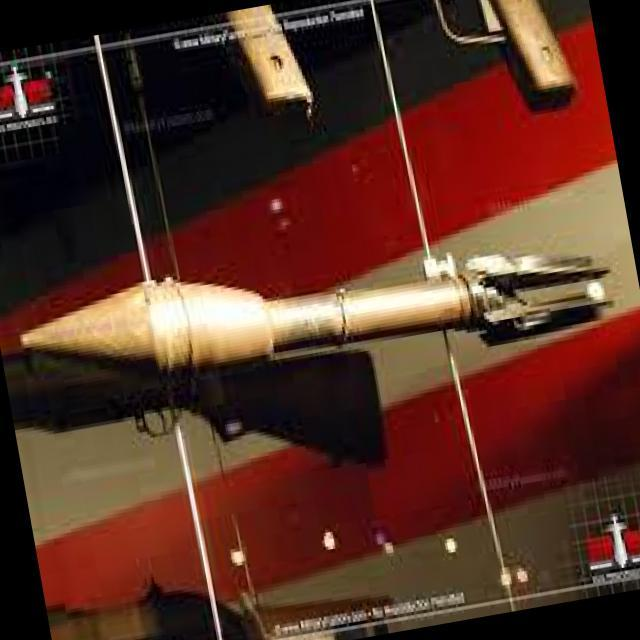grenade: (17, 210, 619, 418)
